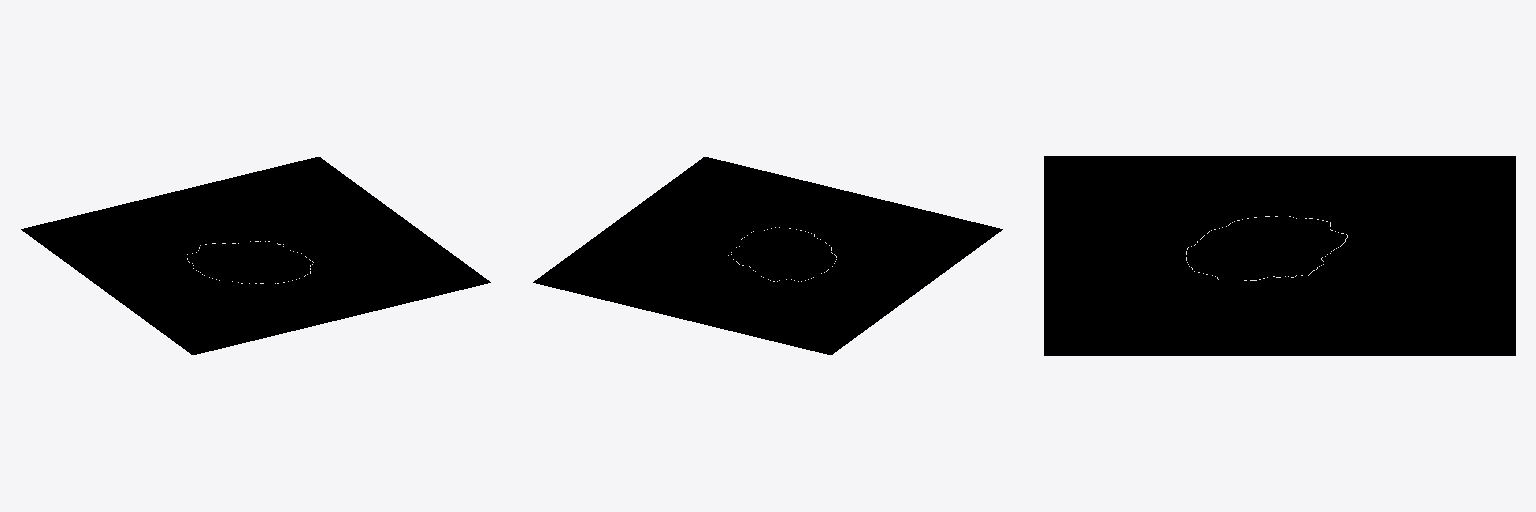
URDF robot description (world):
<robot name="world">
 
	<link name="plane">

   		<inertial>
		    <origin rpy="0 0 0" xyz="0 0 0" />
            <mass value="0.0" />
            <inertia ixx="0.0" ixy="0.0" ixz="0.0" iyy="0.0" iyz="0.0" izz="0.0" />
        </inertial>

    	<visual>
      		<geometry>
        		<box size="10.0 10.0 0.001" />
      		</geometry>

			<material name="plane_color">
        		<color rgba="0 0 0 1" />
      		</material>
       	
			<origin rpy="0 0 0" xyz="0 0 0" />
		</visual>

		<contact>
		 	<lateral_friction value="1" />
			<stiffness value="300000" />
          	<damping value="1000" />
  		</contact>

  		<collision>
			<geometry>
        		<box size="10.0 10.0 0.01" />
      		</geometry>
          <origin rpy="0 0 0" xyz="0 0 0" />
        </collision>
  
	</link>


	<link name="line">

   		<inertial>
		    <origin rpy="0 0 0" xyz="0 0 0" />
            <mass value="0.0" />
            <inertia ixx="0.0" ixy="0.0" ixz="0.0" iyy="0.0" iyz="0.0" izz="0.0" />
        </inertial>

    	<visual>
      		<geometry>
				<mesh filename="./models_tracks/12.obj" scale="1 1 1" />
      		</geometry>
       		
			<material name="line_color">
        		<color rgba="1 1 1 1" />
      		</material>
	    
			<origin rpy="0 0 0" xyz="0 0 0.001" />
		</visual>
    
	</link>


  	<joint name="plane_line" type="fixed">
		<parent link="plane" />
		<child link="line" />
        <origin rpy="0 0 0" xyz="0.0 0.0 0.0" />
 	</joint>

</robot>

--- What the picture shows (computed from the rendered views, not written in the file) ---
3 views of the same robot in one strip: view 1: azimuth 30°, elevation 25°; view 2: azimuth 150°, elevation 25°; view 3: azimuth 270°, elevation 25° (orthographic).
Robot: world — 2 links, 1 joints (1 fixed); root link plane; default pose: all joints at 0.
Links seen in each view (by area): view 1: plane; view 2: plane; view 3: plane.
Boxes of the visible links, x1,y1,x2,y2 form: plane: [21, 157, 490, 354]; plane: [533, 157, 1002, 354]; plane: [1044, 156, 1515, 355].
Size in the robot's own frame: 10 by 10 by 0.0015 metres.
Meshes: 1 distinct files referenced, 1 mesh visuals loaded (1 OBJ).
